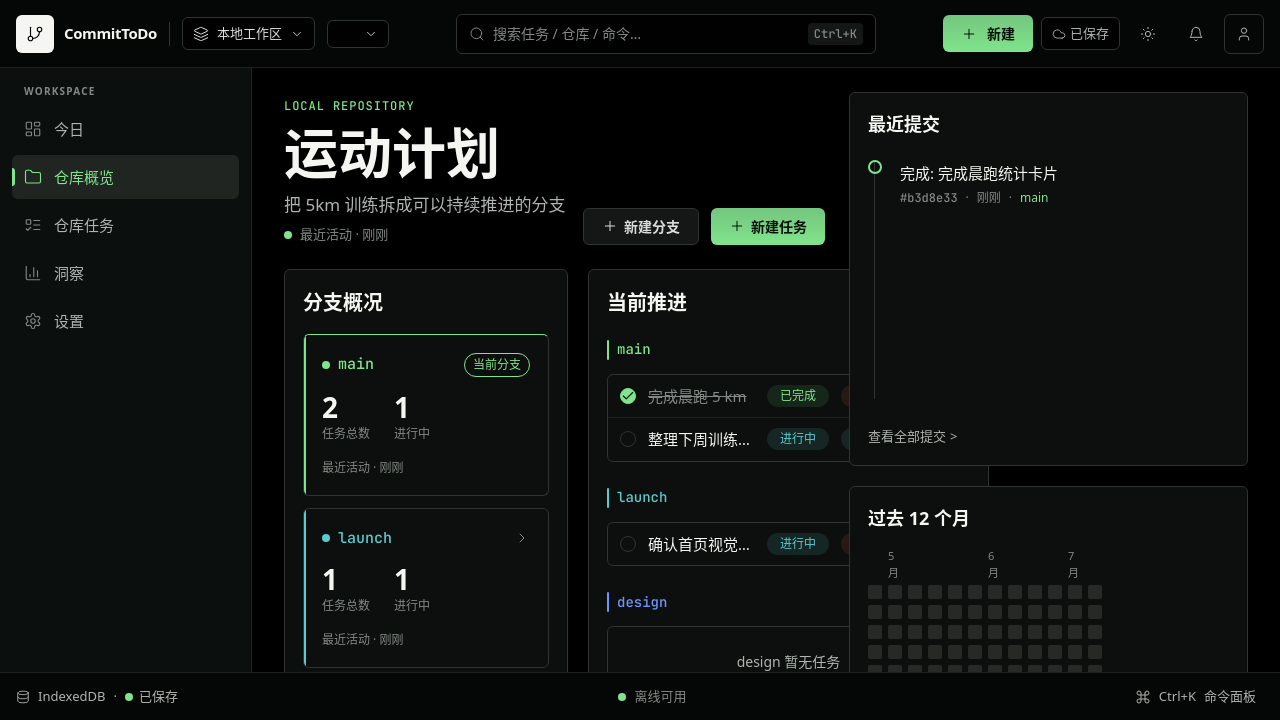
Test: RepositoryOverviewScreen › opens new branch dialog
The image size is (1280, 720).
Click the button "新建分支".
click(641, 226)  # box x1=583 y1=208 x2=699 y2=244
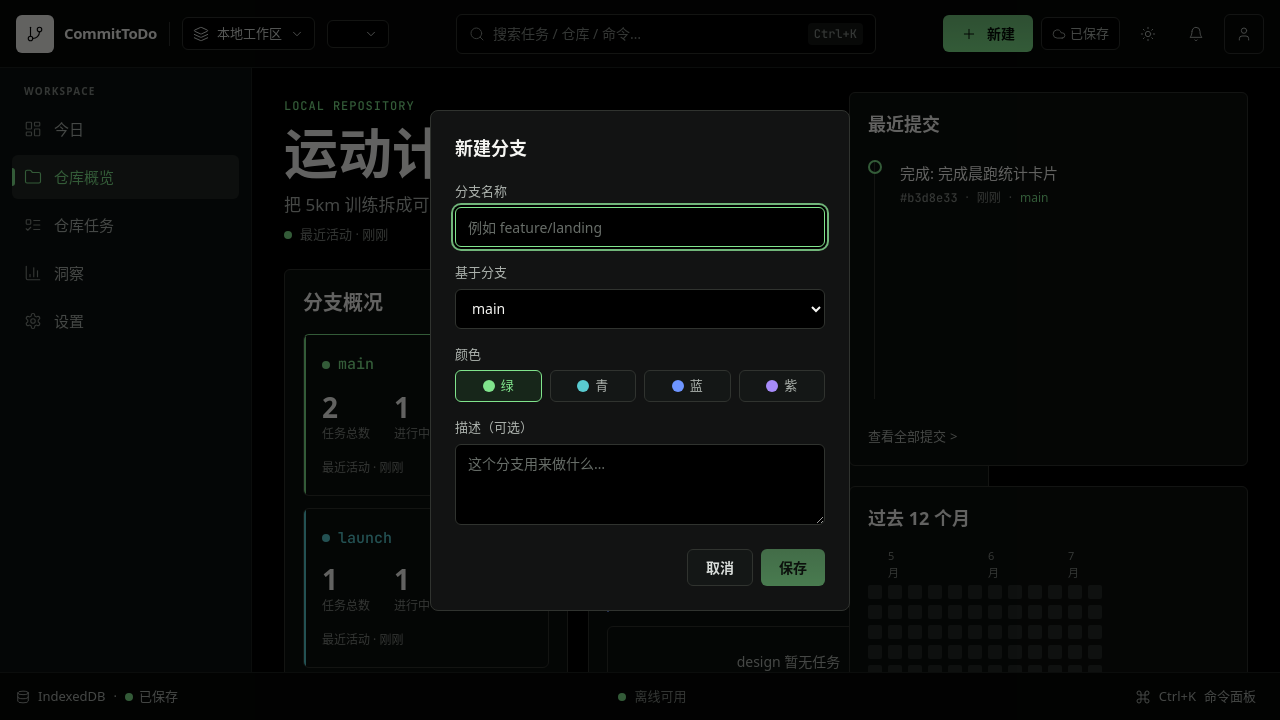
Expected: the dialog "新建分支" is shown
